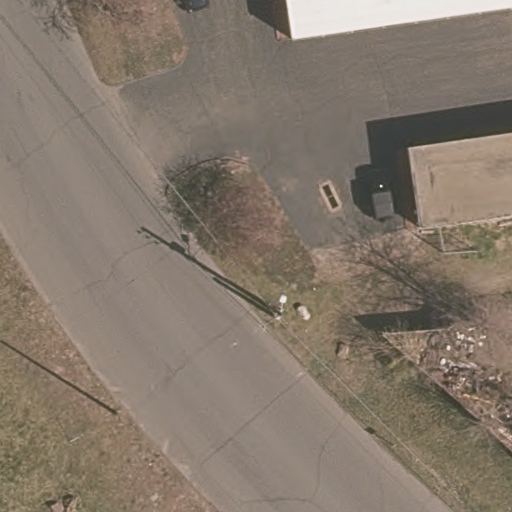DT: (264, 286, 294, 331)
